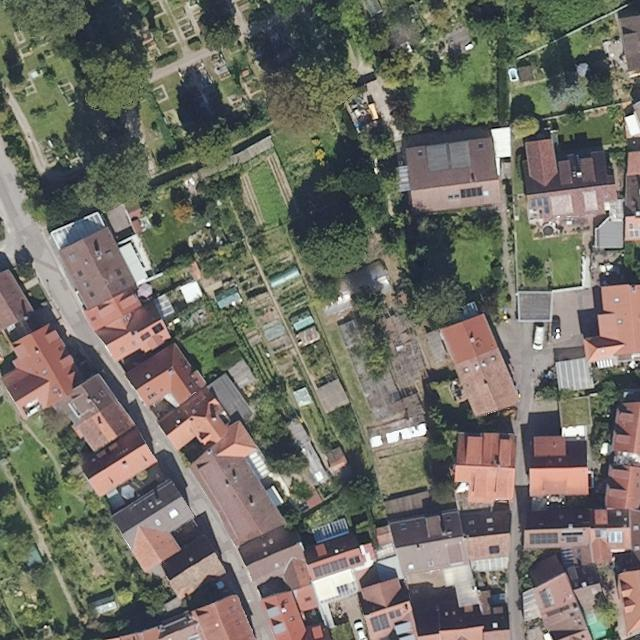PV: (311, 568, 355, 602), (312, 556, 349, 578), (369, 612, 391, 634), (530, 196, 550, 215), (528, 533, 559, 545), (460, 185, 484, 199), (607, 530, 625, 545), (628, 222, 639, 238), (488, 545, 500, 555)
